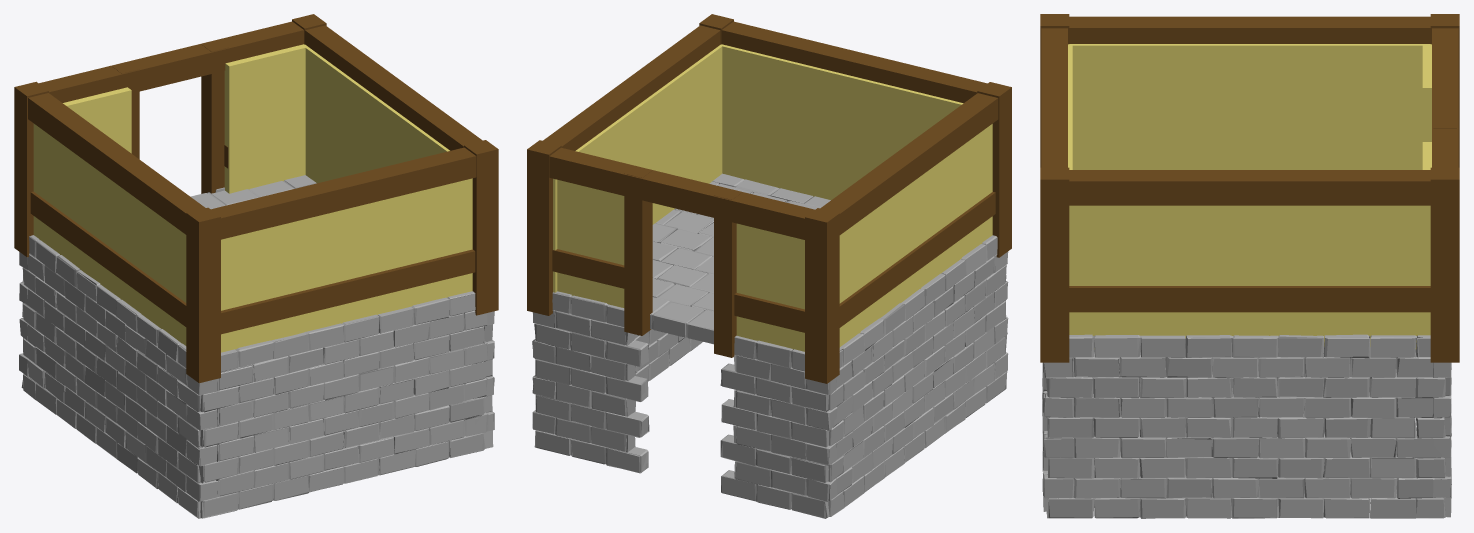
Rendered from House5.fbx.
3 renders of one model, left to right at view 1: azimuth 30°, elevation 25°; view 2: azimuth 150°, elevation 25°; view 3: azimuth 270°, elevation 25°, orthographic. The views are drawn at different scales.
Visible parts, largest first — view 1: Cube.011, Cube.020, Cube.014, Cube.015, Cube.016, Cube.008, Cube.007, Cube.009, Cube.021, Cube.003, Cube.010, Cube.004 (+7 smaller); view 2: Cube.020, Cube.014, Cube.015, Cube.012, Cube.013, Cube.024, Cube.007, Cube.009, Cube.008, Cube.017, Cube.016, Cube.001 (+8 smaller); view 3: Cube.014, Cube.020, Cube.010, Cube.009, Cube.018, Cube.002, Cube.004, Cube.008, Cube.007, Cube.012, Cube.017, Cube.001 (+3 smaller).
Boxes of the visible parts, x1,y1,x2,y2 form: Cube.011: [199, 291, 488, 518]; Cube.020: [22, 235, 494, 518]; Cube.014: [33, 47, 449, 345]; Cube.015: [221, 178, 472, 352]; Cube.016: [224, 44, 307, 193]; Cube.008: [211, 147, 476, 239]; Cube.007: [39, 21, 303, 102]; Cube.009: [28, 93, 205, 234]; Cube.021: [221, 249, 475, 334]; Cube.003: [186, 207, 220, 383]; Cube.010: [305, 25, 482, 150]; Cube.004: [464, 140, 498, 315]; Cube.020: [535, 235, 1008, 516]; Cube.014: [553, 44, 992, 347]; Cube.015: [722, 45, 963, 199]; Cube.012: [532, 291, 649, 473]; Cube.013: [720, 335, 837, 518]; Cube.024: [650, 173, 830, 344]; Cube.007: [549, 147, 814, 239]; Cube.009: [820, 93, 998, 234]; Cube.008: [721, 21, 987, 103]; Cube.017: [736, 223, 804, 351]; Cube.016: [557, 179, 624, 307]; Cube.001: [805, 208, 839, 383]; Cube.014: [1068, 44, 1430, 348]; Cube.020: [1043, 334, 1445, 518]; Cube.010: [1069, 170, 1430, 205]; Cube.009: [1069, 16, 1430, 43]; Cube.018: [1069, 286, 1430, 312]; Cube.002: [1430, 167, 1459, 362]; Cube.004: [1040, 167, 1069, 362]; Cube.008: [1041, 28, 1067, 167]; Cube.007: [1432, 28, 1458, 167]; Cube.012: [1432, 362, 1451, 517]; Cube.017: [1422, 44, 1431, 141]; Cube.001: [1430, 14, 1459, 167].
Size of the model in its own units: 286 by 274 by 305.
